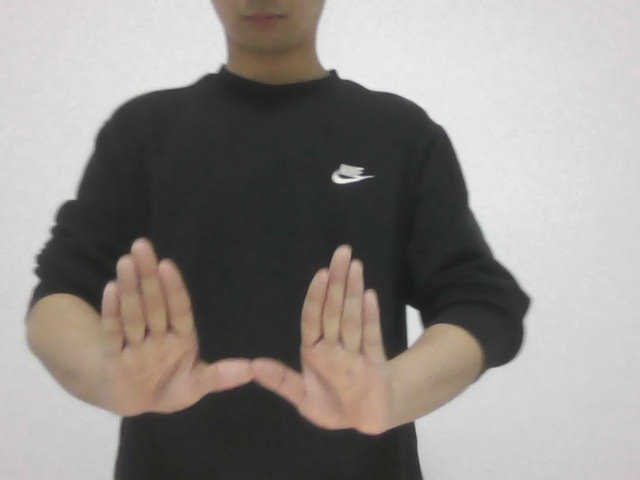door: (84, 234, 403, 438)
